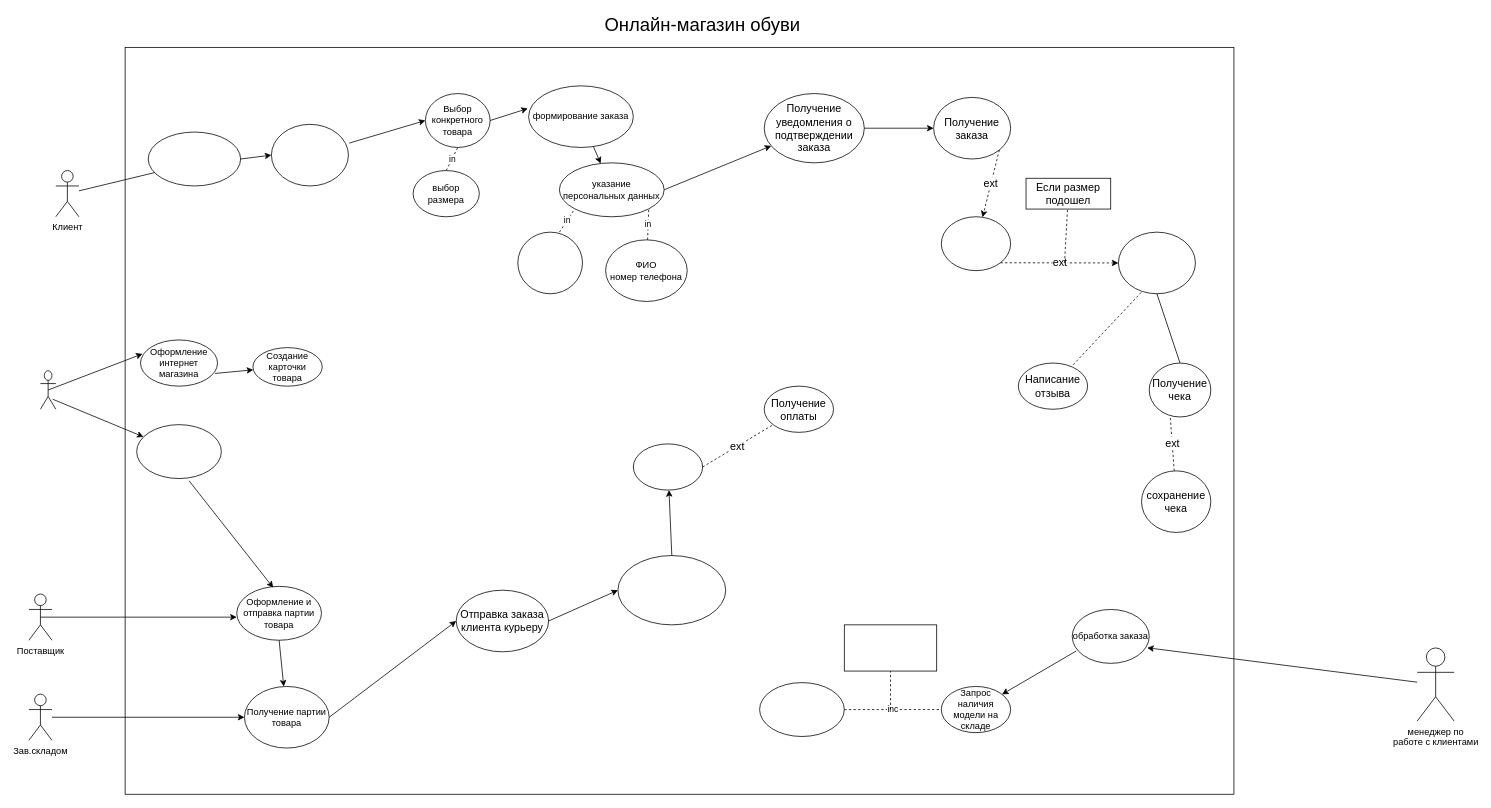
This 1491x808 diagram has some shape labels left out. The shapes that lost their labels are listed below. From the top down, each one's centre as x and y in pixels, then its label:
the point at 194,158: Вход на сайт
the point at 309,155: Просмотр моделей
the point at 550,262: Адрес доставки
the point at 976,243: Примерка
the point at 1156,262: Оплата
the point at 48,389: Администратор
the point at 178,451: Заказ партии
the point at 668,466: Отправка заказа клиенту
the point at 671,590: Получение заказа клиента
the point at 890,647: Если товар присутствует
the point at 801,709: Подтверждение заказа
